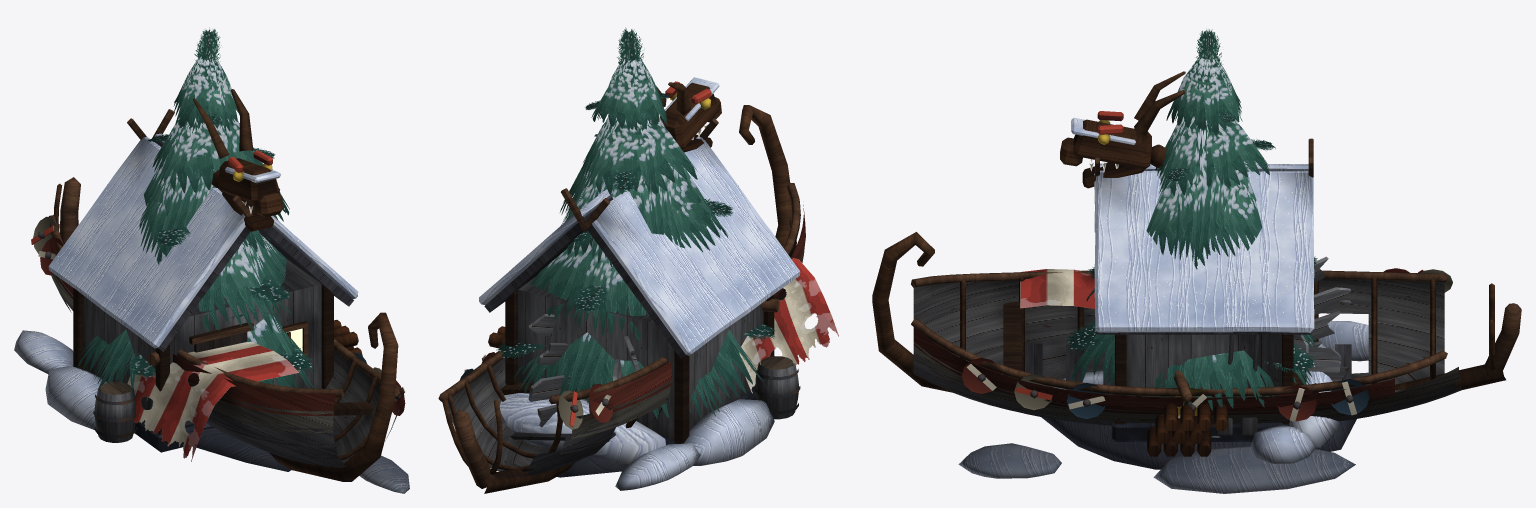
File: kit_rimeshore.glb
3 views of the same model, side by side, from view 1: azimuth 30°, elevation 25°; view 2: azimuth 150°, elevation 25°; view 3: azimuth 270°, elevation 25° (orthographic). The views are drawn at different scales.
Parts seen in each view (by area): view 1: rimeshore_fishing_hut_mesh, rimeshore_longship_mesh, rimeshore_pine_a_mesh, rimeshore_pine_a_lod1_mesh, rimeshore_longship_prow_mesh; view 2: rimeshore_fishing_hut_mesh, rimeshore_longship_mesh, rimeshore_pine_a_mesh, rimeshore_pine_a_lod1_mesh, rimeshore_longship_prow_mesh; view 3: rimeshore_longship_mesh, rimeshore_fishing_hut_mesh, rimeshore_pine_a_mesh, rimeshore_longship_prow_mesh, rimeshore_pine_a_lod1_mesh.
Boxes of the visible parts, left/top/right/bottom form: rimeshore_fishing_hut_mesh: left=45, top=109, right=362, bottom=452; rimeshore_longship_mesh: left=14, top=177, right=409, bottom=493; rimeshore_pine_a_mesh: left=77, top=27, right=314, bottom=406; rimeshore_pine_a_lod1_mesh: left=93, top=56, right=316, bottom=390; rimeshore_longship_prow_mesh: left=193, top=89, right=283, bottom=231; rimeshore_fishing_hut_mesh: left=479, top=118, right=800, bottom=465; rimeshore_longship_mesh: left=438, top=105, right=838, bottom=493; rimeshore_pine_a_mesh: left=496, top=27, right=774, bottom=418; rimeshore_pine_a_lod1_mesh: left=531, top=57, right=767, bottom=399; rimeshore_longship_prow_mesh: left=528, top=77, right=721, bottom=445; rimeshore_longship_mesh: left=872, top=232, right=1521, bottom=493; rimeshore_fishing_hut_mesh: left=1094, top=138, right=1340, bottom=463; rimeshore_pine_a_mesh: left=1065, top=29, right=1317, bottom=410; rimeshore_longship_prow_mesh: left=1060, top=71, right=1351, bottom=381; rimeshore_pine_a_lod1_mesh: left=1071, top=57, right=1316, bottom=397.
Size of the model in its own units: 3.82 by 5.47 by 7.77.
Materials: 14 (11 with a texture image).
